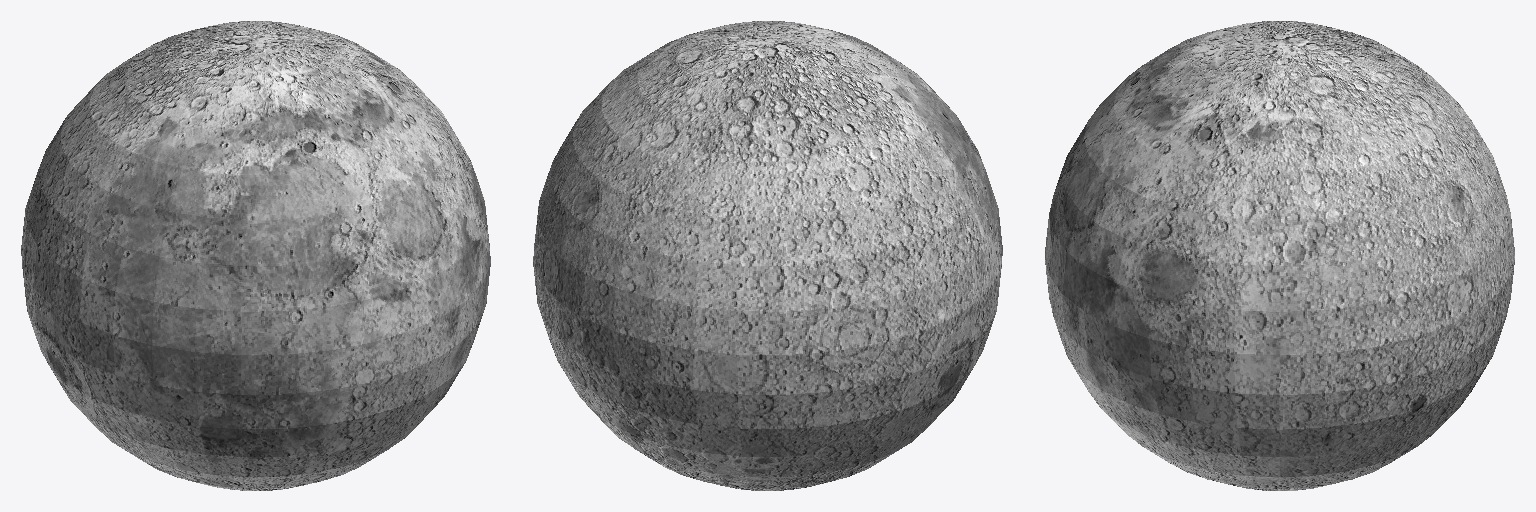
The picture shows the model from 3 angles: view 1: azimuth 30°, elevation 25°; view 2: azimuth 150°, elevation 25°; view 3: azimuth 270°, elevation 25°; orthographic projection.
Parts seen in each view (by area): view 1: Sphere001; view 2: Sphere001; view 3: Sphere001.
Part boxes in pixels (x1,y1,x2,y2): Sphere001: (21,21,490,490); Sphere001: (533,21,1002,490); Sphere001: (1045,21,1514,490).
Size of the model in its own units: 34.07 by 34.07 by 34.07.
1 materials, 1 textured.